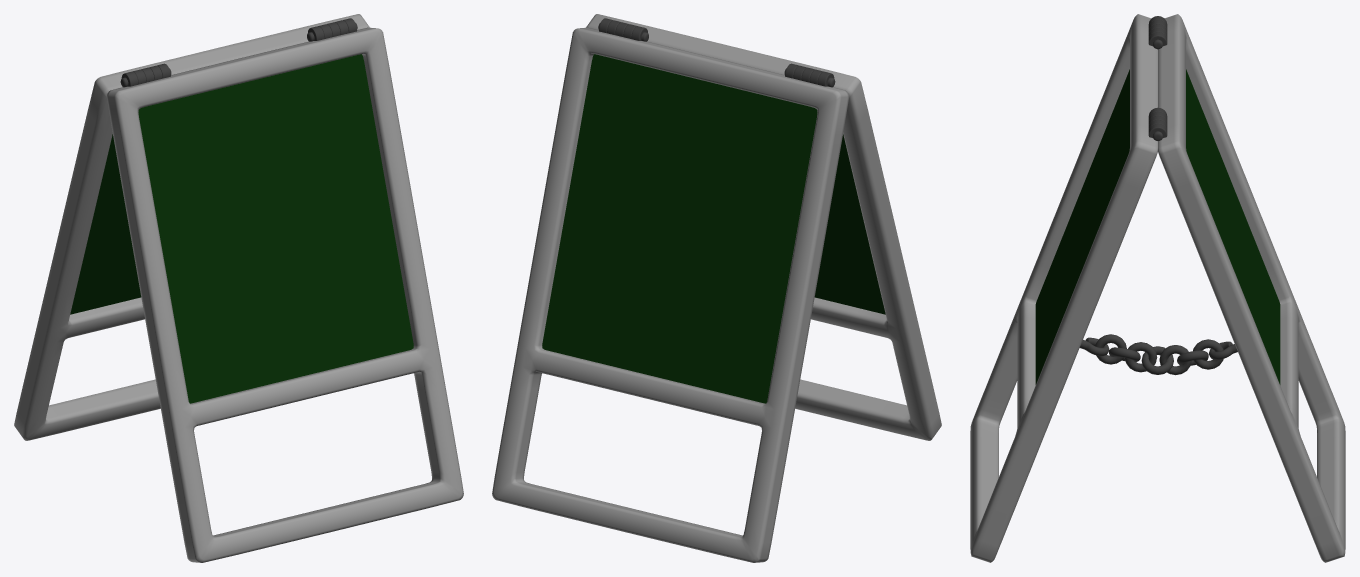
The model's file is Sign.fbx.
3 views of the same model, side by side, from view 1: azimuth 30°, elevation 25°; view 2: azimuth 150°, elevation 25°; view 3: azimuth 270°, elevation 25° (orthographic).
Visible parts, largest first — view 1: board_2, side_1, side_2, board; view 2: board, side_2, side_1, board_2; view 3: side_1, side_2, board, board_2, ring_3, ring_7, ring_5, ring_1, ring_4.
Boxes of the visible parts, x1,y1,x2,y2 form: board_2: (138,54,413,403); side_1: (106,27,463,562); side_2: (14,14,369,440); board: (70,134,141,314); board: (542,54,817,403); side_2: (492,27,849,562); side_1: (586,14,941,440); board_2: (814,134,885,314); side_1: (970,14,1157,562); side_2: (1158,14,1345,562); board: (1186,69,1280,384); board_2: (1035,69,1129,384); ring_3: (1125,342,1157,372); ring_7: (1193,339,1223,369); ring_5: (1159,345,1191,375); ring_1: (1095,334,1126,364); ring_4: (1141,346,1173,374).
Bounding box in the file's own units: 3.11 × 4.7 × 3.73.
